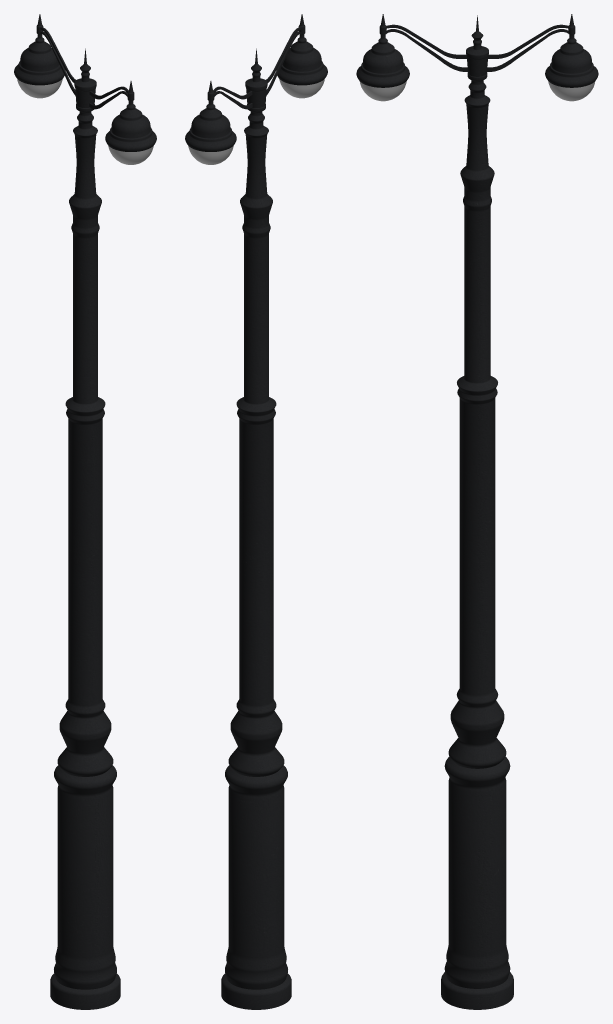
Rendered from Fonar.fbx.
The picture shows the model from 3 angles, left to right: view 1: azimuth 30°, elevation 25°; view 2: azimuth 150°, elevation 25°; view 3: azimuth 270°, elevation 25°; orthographic projection. The views are drawn at different scales.
Parts seen in each view (by area): view 1: Cylinder; view 2: Cylinder; view 3: Cylinder.
Boxes of the visible parts, x1,y1,x2,y2 form: Cylinder: [14, 14, 156, 1009]; Cylinder: [185, 14, 327, 1009]; Cylinder: [356, 14, 598, 1009].
Bounding box in the file's own units: 23.65 × 350 × 78.43.
